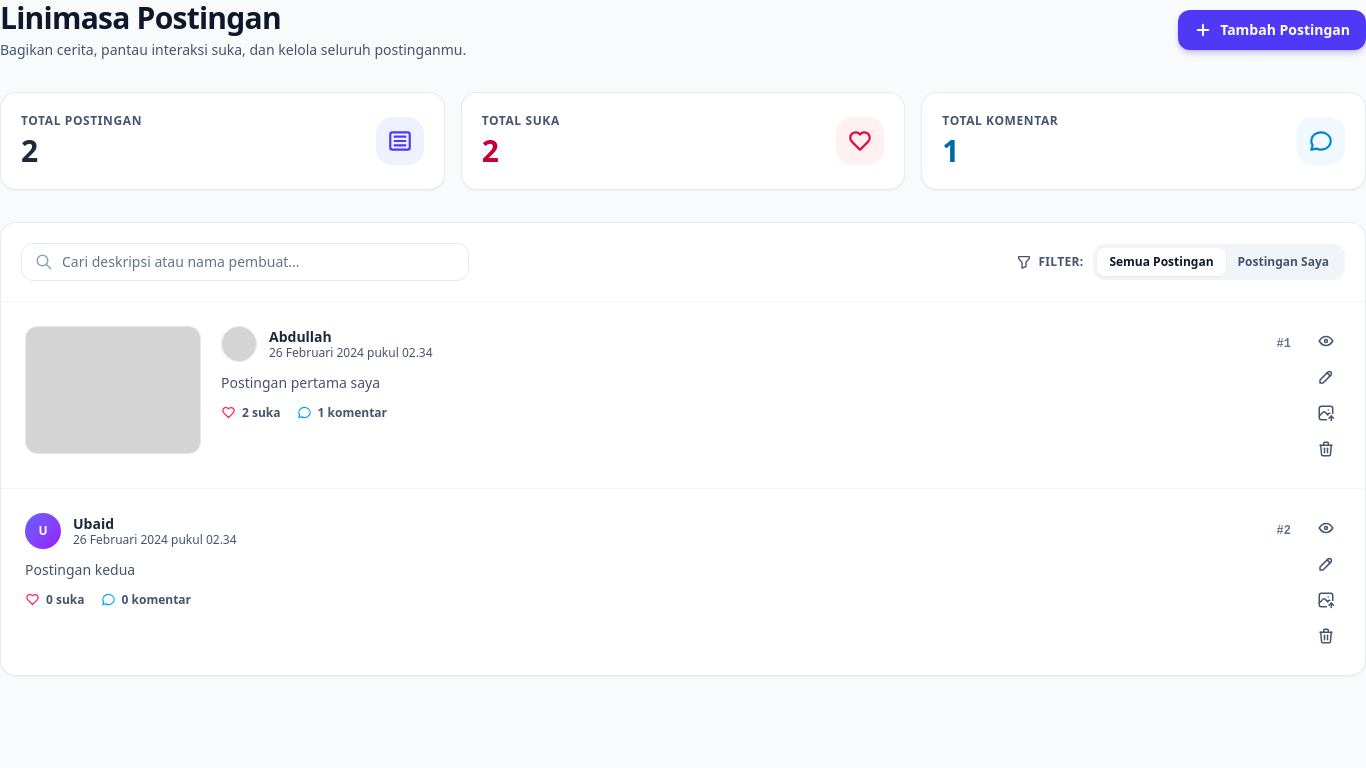
Test: HomePage › should open and close AddModal when Tambah Postingan button clicked
Step 1. Click the button with test id "add-post-btn" → (1272, 30), box [1178, 10, 1365, 50]
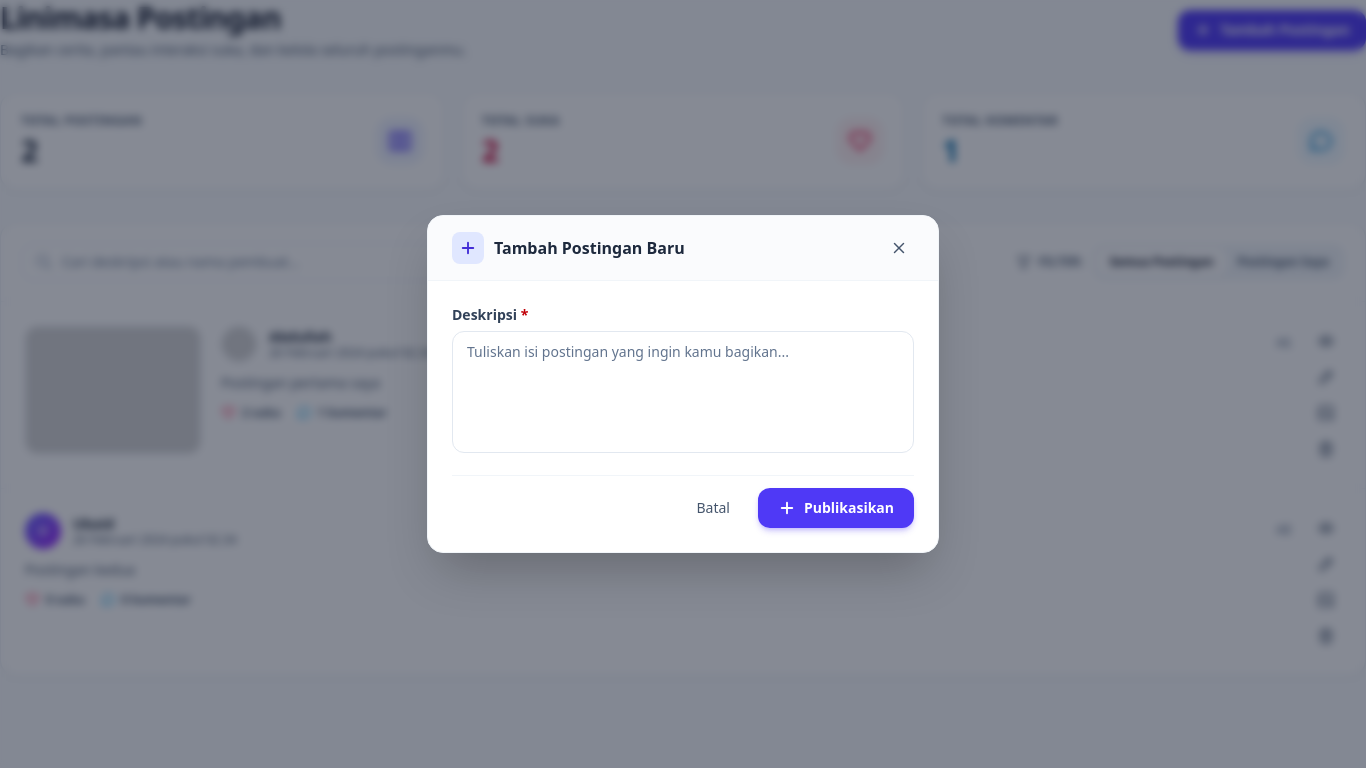
expect the element with test id "add-post-modal" is shown: met
Step 2. Click the button with test id "close-add-modal-btn" → (899, 248), box [884, 233, 914, 263]
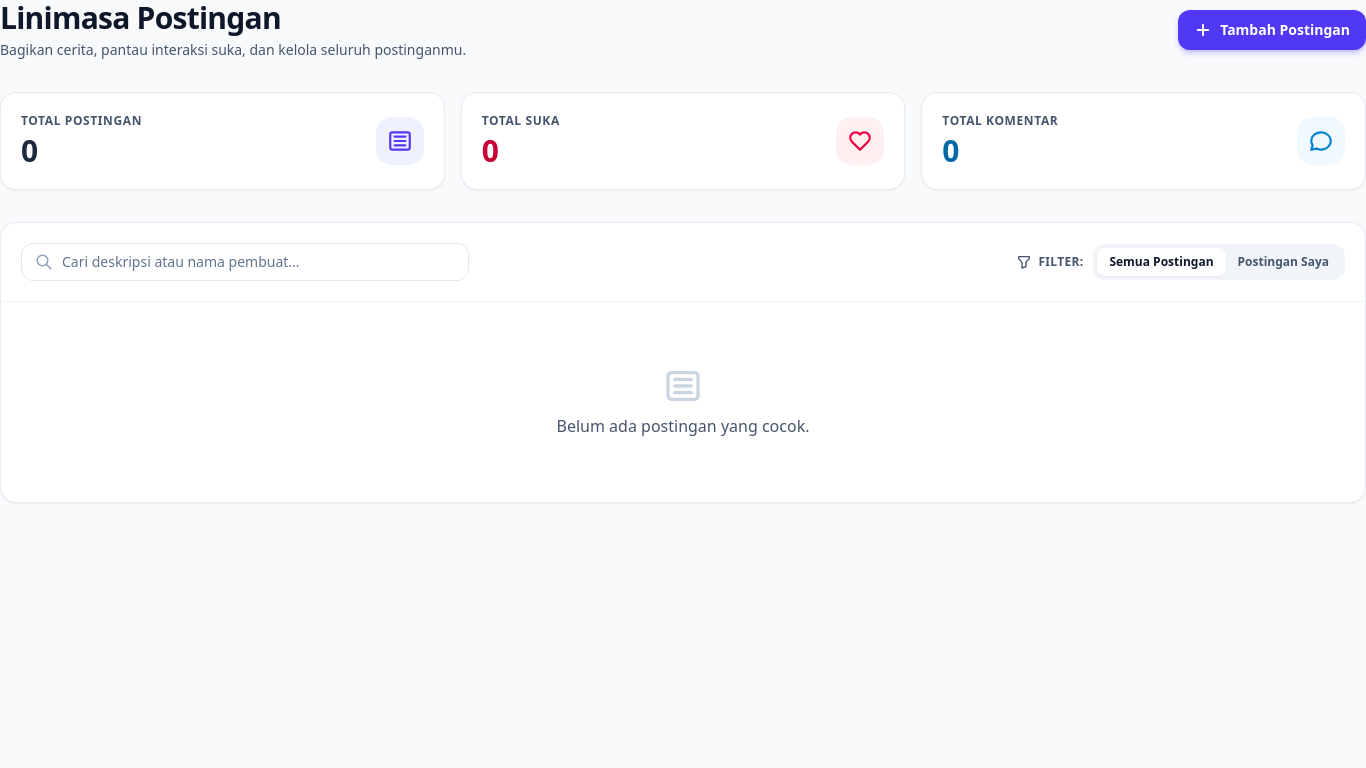
expect the element with test id "add-post-modal" is gone: met
